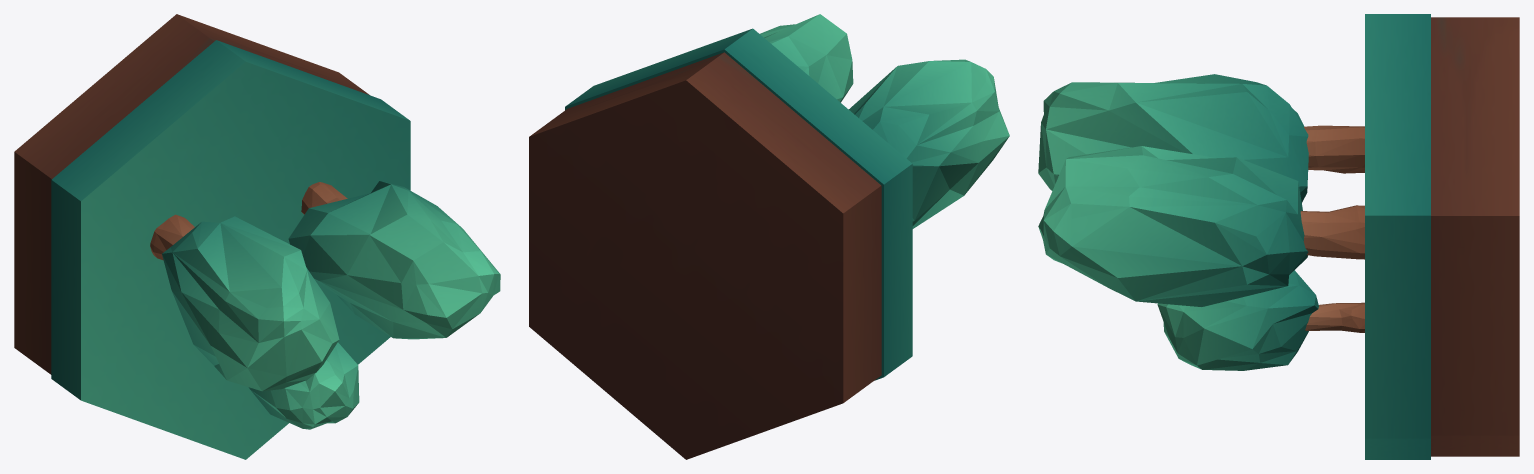
File: LAUBWALD_S.fbx
3 views of the same model, side by side, from view 1: azimuth 30°, elevation 25°; view 2: azimuth 150°, elevation 25°; view 3: azimuth 270°, elevation 25° (orthographic). The views are drawn at different scales.
Parts seen in each view (by area): view 1: LAUBWALD_S; view 2: LAUBWALD_S; view 3: LAUBWALD_S.
Part boxes in pixels (bbox=[...]): LAUBWALD_S: bbox=[14, 14, 500, 459]; LAUBWALD_S: bbox=[529, 14, 1009, 459]; LAUBWALD_S: bbox=[1038, 14, 1519, 459].
Bounding box in the file's own units: 172 × 199 × 194.
